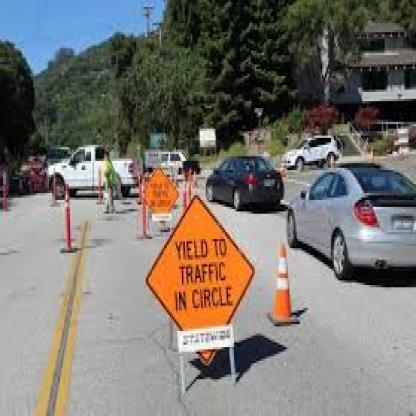car: (279, 164, 416, 283), (38, 128, 144, 202), (198, 155, 288, 220), (125, 139, 199, 186), (277, 132, 346, 174)
